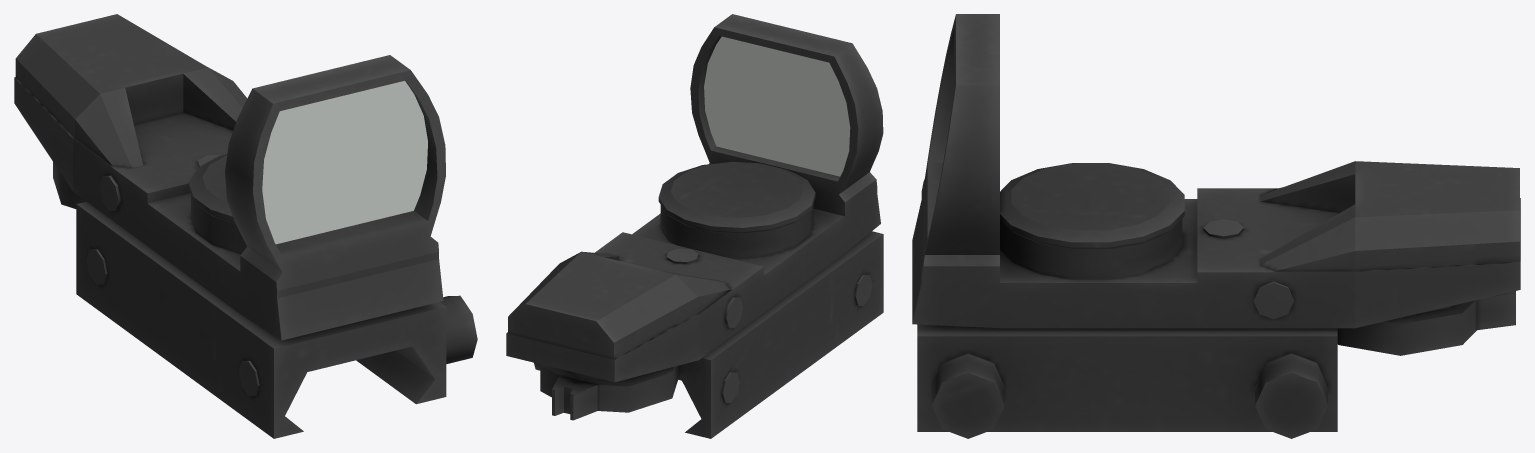
File: red_dot_sight_3.fbx
The picture shows the model from 3 angles, left to right: view 1: azimuth 30°, elevation 25°; view 2: azimuth 150°, elevation 25°; view 3: azimuth 270°, elevation 25°; orthographic projection. The views are drawn at different scales.
Visible parts, largest first — view 1: Coyote_Sight_1, Coyote_Sight_1.001; view 2: Coyote_Sight_1, Coyote_Sight_1.001; view 3: Coyote_Sight_1.
Boxes of the visible parts, left/top/right/bottom form: Coyote_Sight_1: left=14, top=14, right=477, bottom=438; Coyote_Sight_1.001: left=262, top=81, right=427, bottom=244; Coyote_Sight_1: left=506, top=14, right=883, bottom=438; Coyote_Sight_1.001: left=704, top=36, right=850, bottom=176; Coyote_Sight_1: left=912, top=14, right=1520, bottom=438.
Size of the model in its own units: 13.26 by 18.25 by 29.81.
